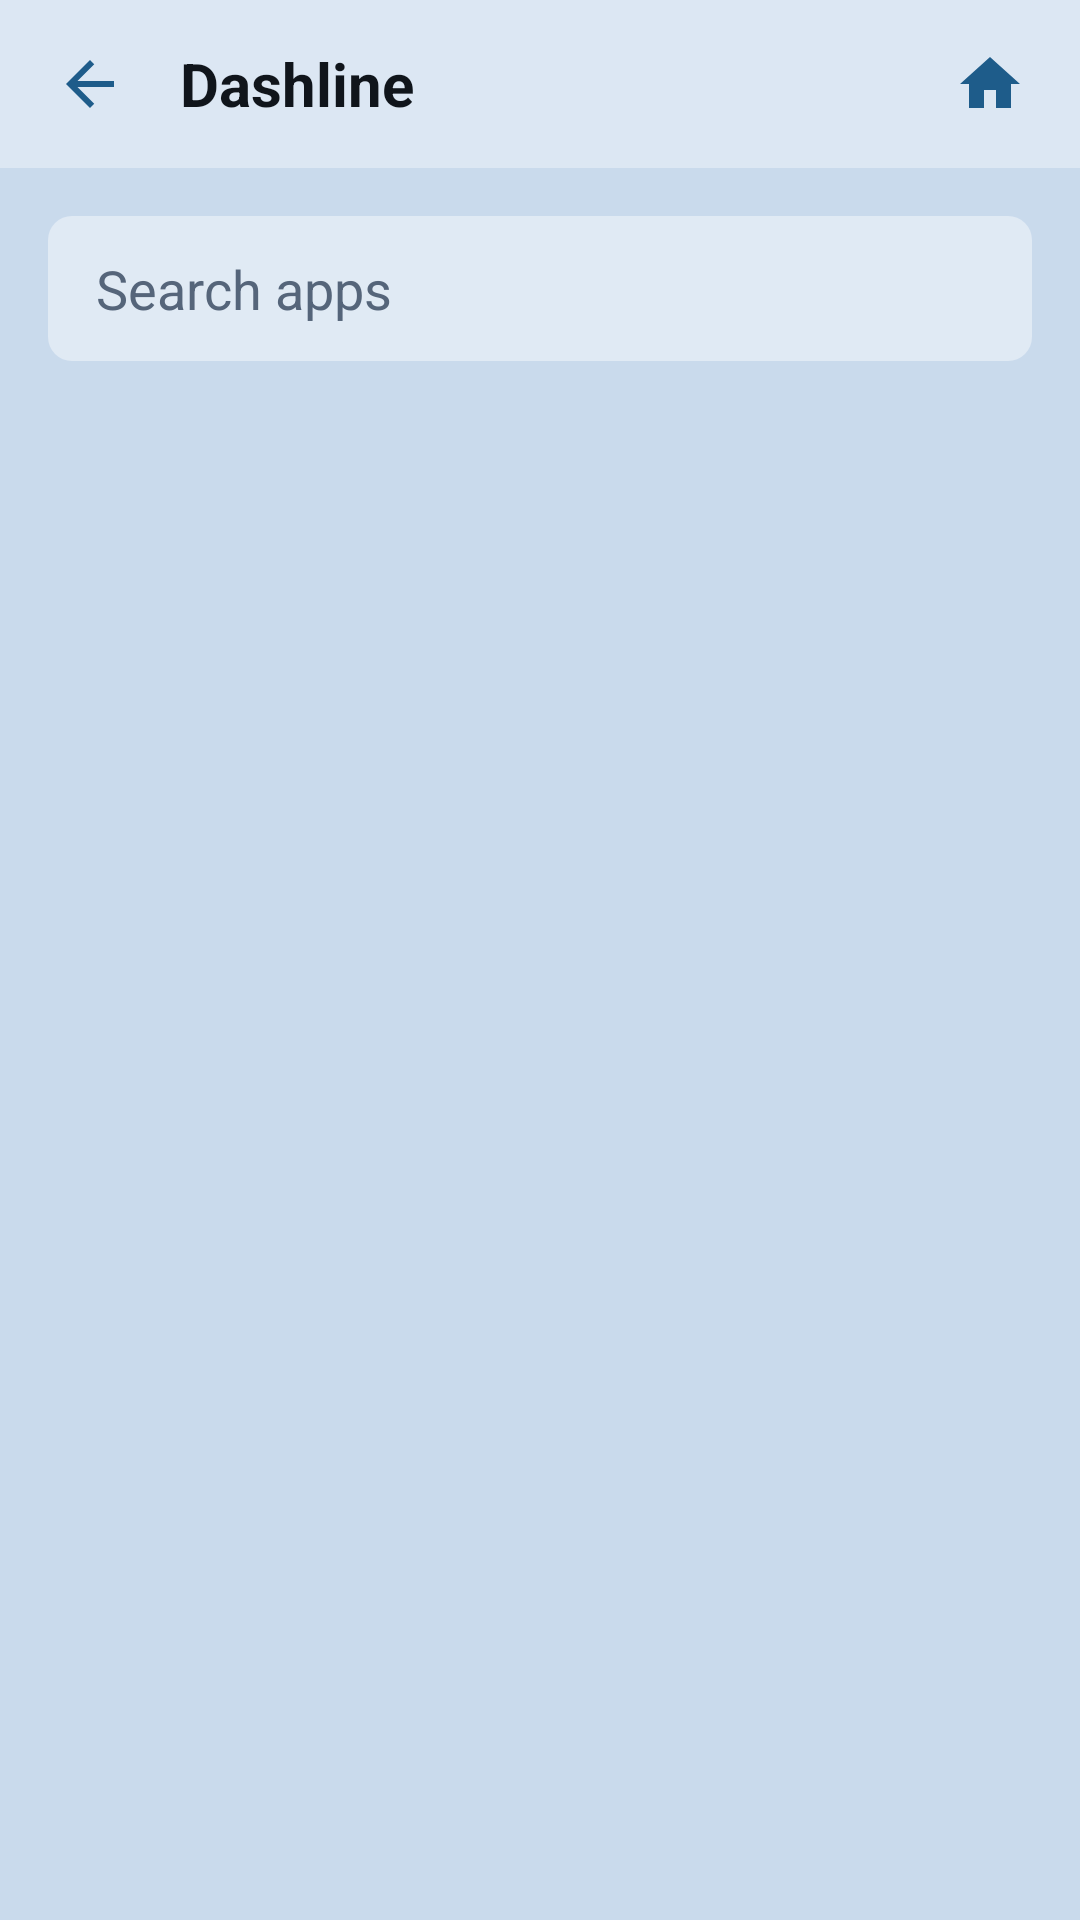

Screen size 1080*1920. Icon name, then its center in pixels as point (x, y):
Back: point (90, 84)
Home: point (990, 82)
